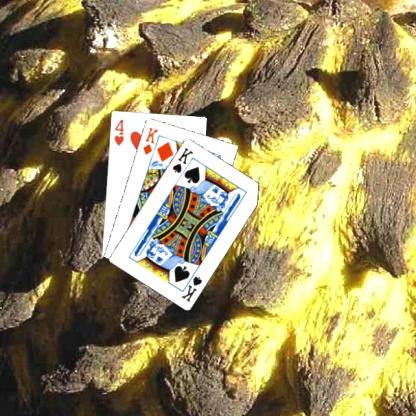4H: (111, 116, 125, 146)
KD: (140, 124, 159, 157)
KS: (178, 268, 204, 302), (169, 145, 195, 174)
